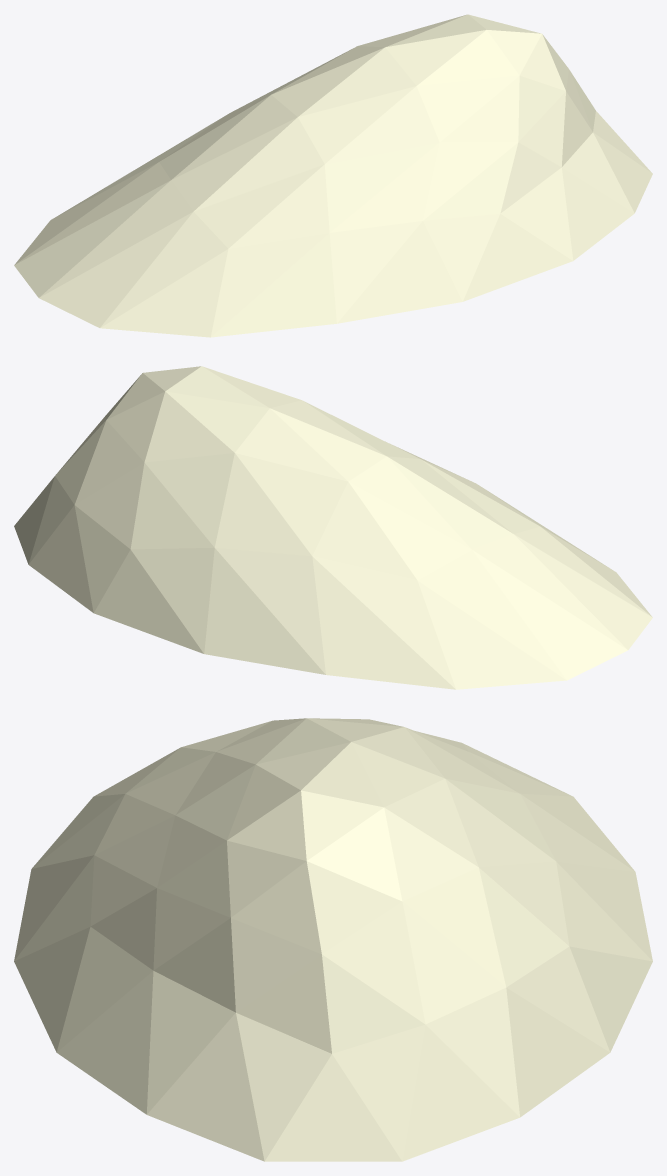
The model's file is Sand2.FBX.
The picture shows the model from 3 angles, top to bottom: view 1: azimuth 30°, elevation 25°; view 2: azimuth 150°, elevation 25°; view 3: azimuth 270°, elevation 25°; orthographic projection. The views are drawn at different scales.
Parts seen in each view (by area): view 1: Sand2; view 2: Sand2; view 3: Sand2.
Part boxes in pixels (bbox=[...]): Sand2: bbox=[14, 14, 652, 337]; Sand2: bbox=[14, 366, 652, 689]; Sand2: bbox=[14, 718, 652, 1161].
Size of the model in its own units: 171 by 47.71 by 107.
